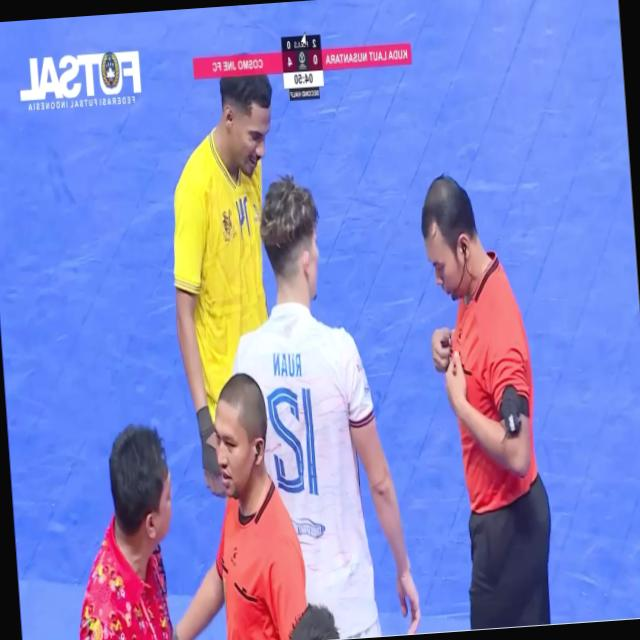official: (79, 426, 171, 639), (289, 604, 339, 639)
players: (233, 177, 419, 637), (173, 75, 271, 495)
referee: (421, 176, 550, 629), (186, 340, 290, 637)
